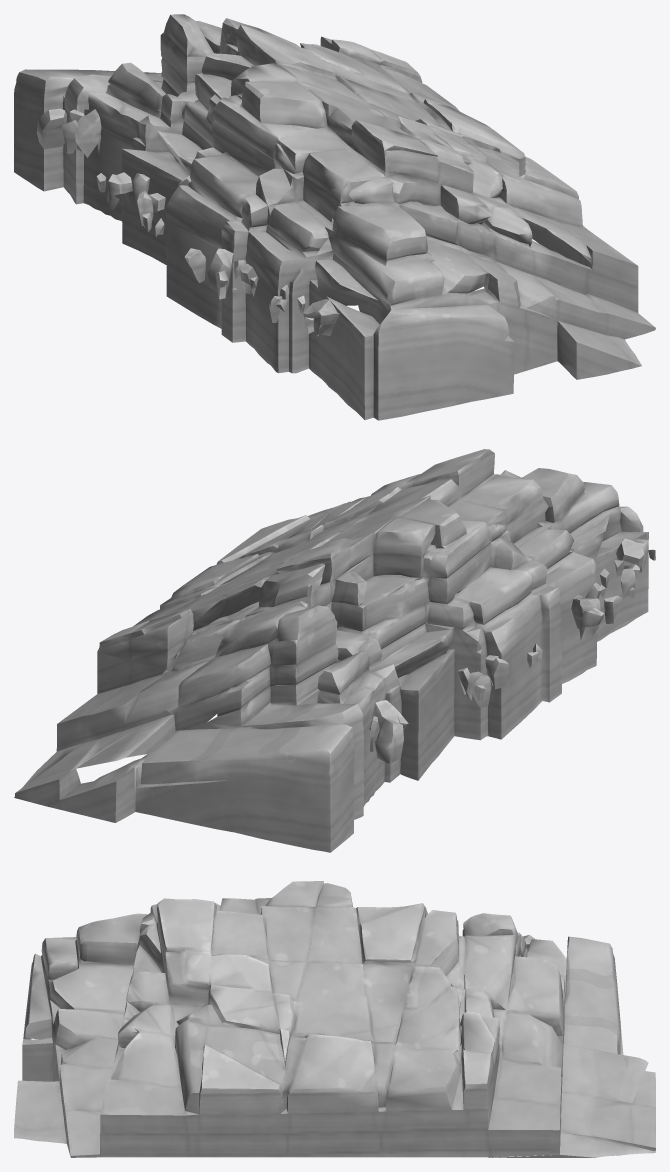
The model's file is sculpted_terrace_02.glb.
The picture shows the model from 3 angles, top to bottom: view 1: azimuth 30°, elevation 25°; view 2: azimuth 150°, elevation 25°; view 3: azimuth 270°, elevation 25°; orthographic projection. The views are drawn at different scales.
Visible parts, largest first — view 1: sculpted_terrace_02; view 2: sculpted_terrace_02; view 3: sculpted_terrace_02.
Boxes of the visible parts, x1,y1,x2,y2 form: sculpted_terrace_02: [14, 14, 655, 420]; sculpted_terrace_02: [14, 449, 655, 852]; sculpted_terrace_02: [14, 881, 655, 1157].
Bounding box in the file's own units: 24.71 × 12.79 × 43.41.
Materials: 1 (1 with a texture image).
